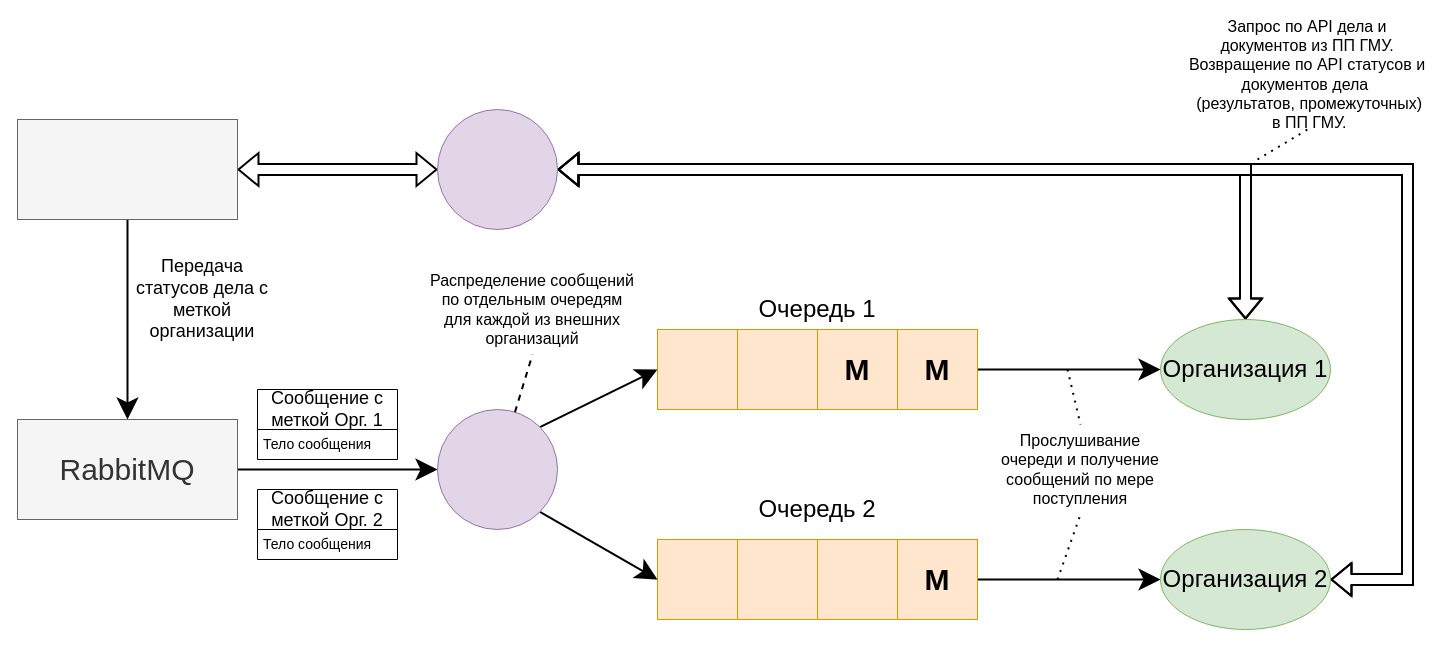
Some shapes in this 1445 by 647 pixel diagram are drawn without their labels. The shapes that lost their labels are listed below. From the top down, each one's box as (x1, y1, x2, y2) in pixels, then its label:
(16, 118, 238, 220): ПП ГМУ
(436, 108, 558, 230): API
(436, 408, 558, 530): Ex.
